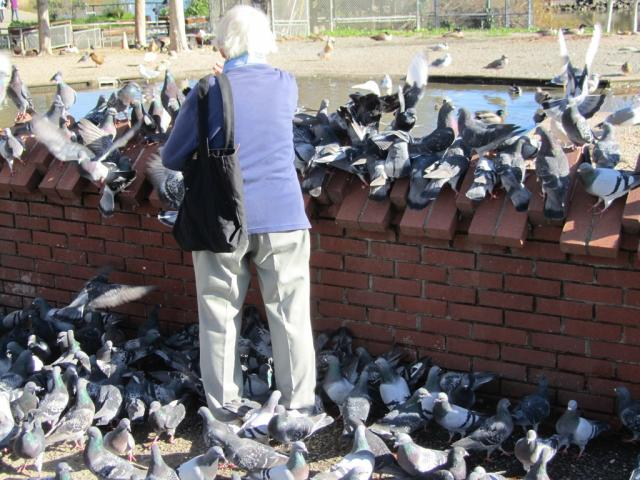Bird: (0, 262, 615, 480), (0, 28, 640, 222), (247, 440, 308, 480), (614, 380, 640, 445), (318, 33, 338, 65), (138, 63, 162, 84), (428, 52, 454, 69), (482, 55, 508, 71), (90, 51, 108, 67), (624, 462, 640, 480), (371, 31, 392, 41)
